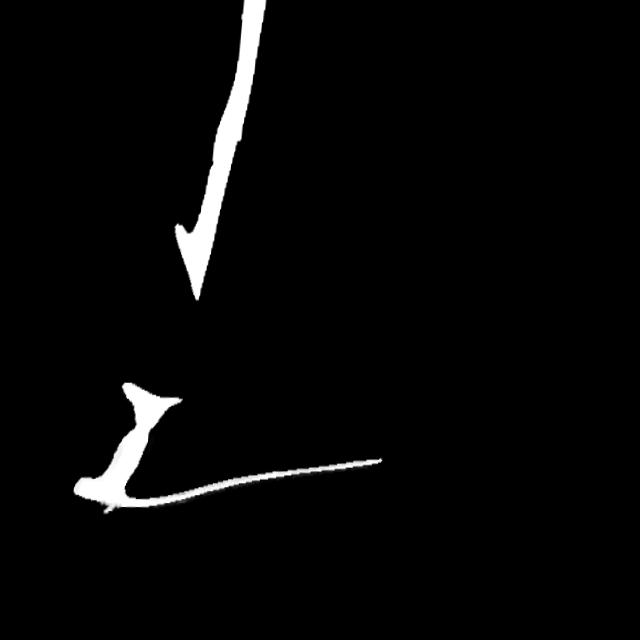sup_pli: (102, 498, 121, 524)
